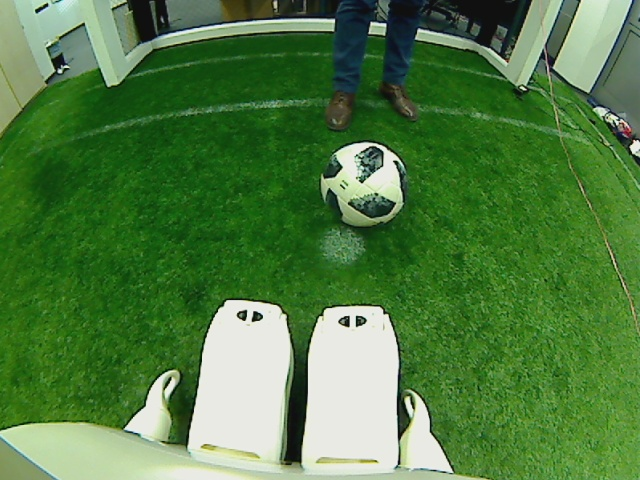ball: (322, 134, 406, 230)
